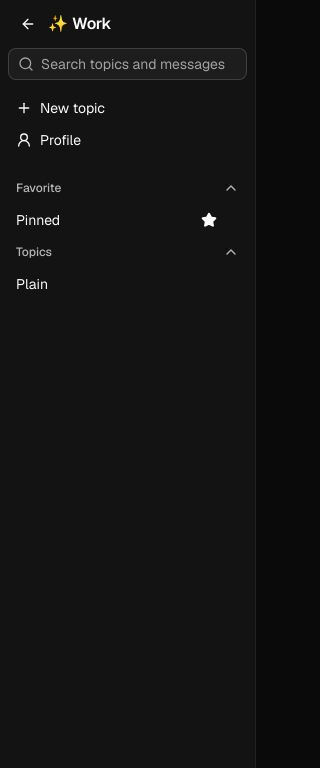
AssistantTree › toggles both sections independently and persists each flag
Click the button "Topics".
click(128, 252)  # box [8, 236, 247, 268]
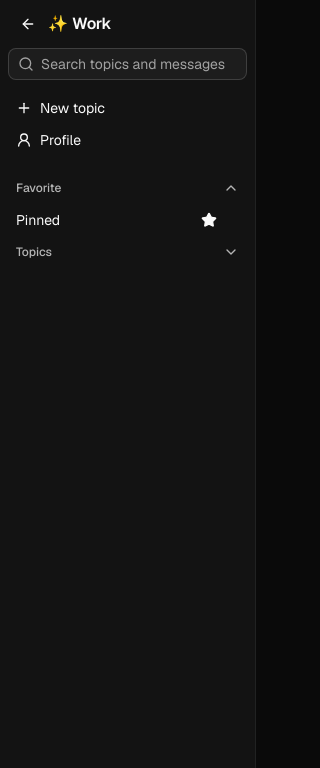
// Favorite still toggles while Topics is collapsed.
Click the button "Favorite".
click(128, 188)  # box [8, 172, 247, 204]
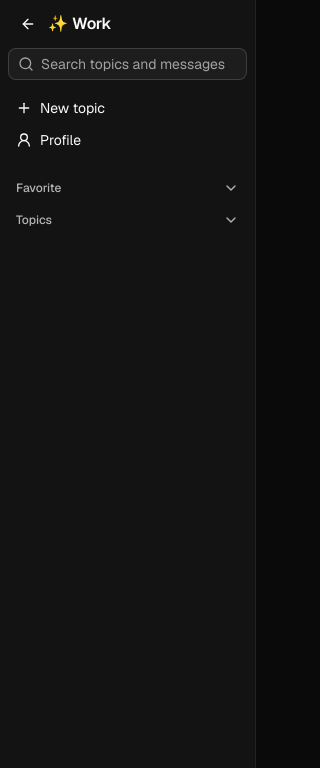
Now the button "Topics" is collapsed
Now the button "Favorite" is collapsed, box [8, 172, 247, 204]
// Re-expanding Topics leaves Favorite collapsed.
Click the button "Topics".
click(128, 220)  # box [8, 204, 247, 236]
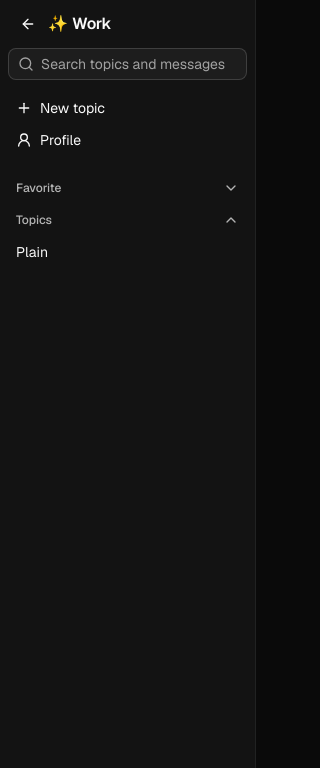
Expected: the link "Plain" is shown, [16, 243, 48, 261]
Now the button "Favorite" is collapsed, box [8, 172, 247, 204]
Now the button "Topics" is expanded, box [8, 204, 247, 236]
